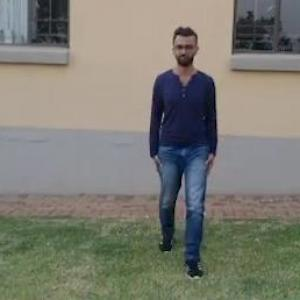follow: (143, 5, 229, 281)
